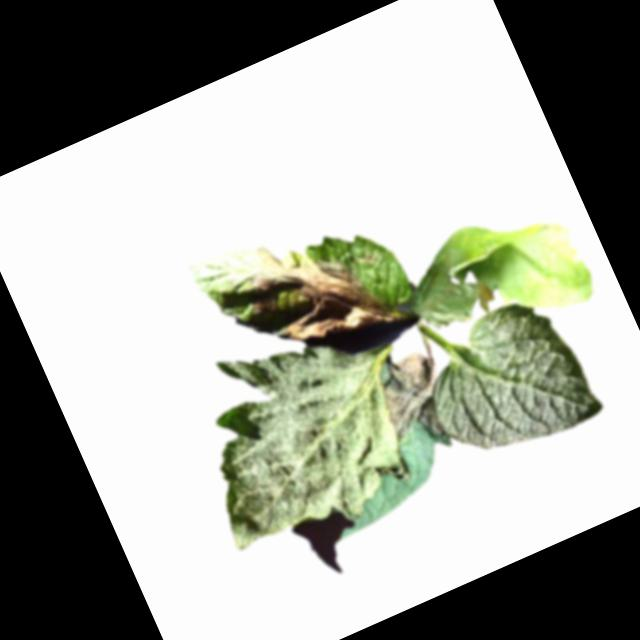Late_blight: (181, 321, 377, 525), (396, 185, 602, 364), (228, 208, 399, 373), (369, 345, 461, 454)
